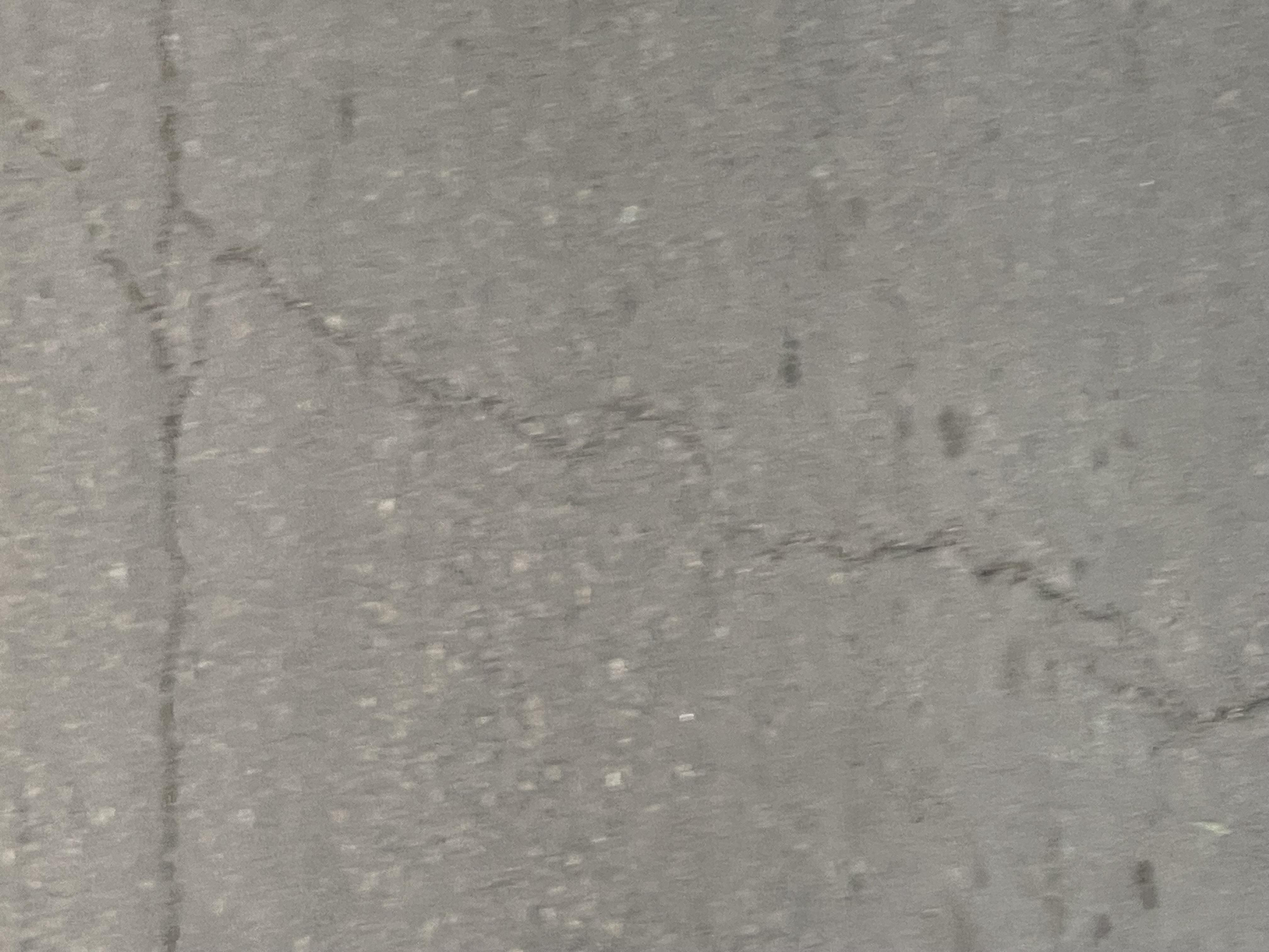GRIETA: (228, 247, 1269, 738), (0, 89, 193, 952), (151, 1, 190, 306)
